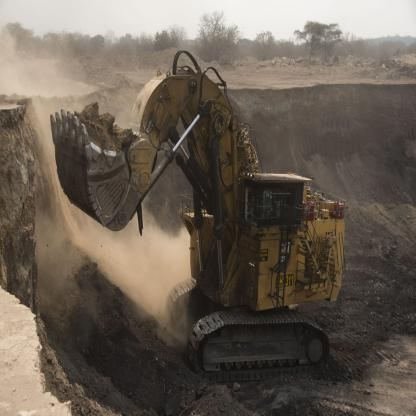excavator: (47, 48, 364, 391)
